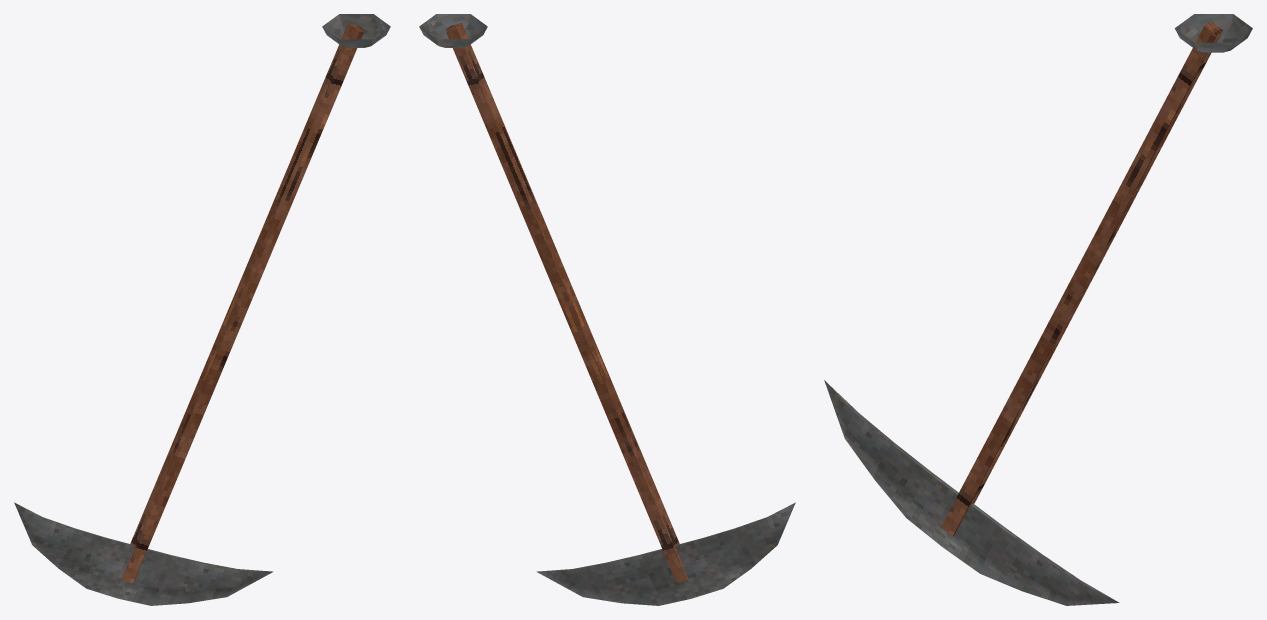
Rendered from swinging_axe.glb.
3 views of the same model, side by side, from view 1: azimuth 30°, elevation 25°; view 2: azimuth 150°, elevation 25°; view 3: azimuth 330°, elevation 25° (orthographic). The views are drawn at different scales.
Visible parts, largest first — view 1: Spinny, Top; view 2: Spinny, Top; view 3: Spinny, Top.
Boxes of the visible parts, left/top/right/bottom form: Spinny: left=14, top=23, right=364, bottom=605; Top: left=322, top=14, right=390, bottom=47; Spinny: left=445, top=23, right=795, bottom=605; Top: left=419, top=14, right=487, bottom=47; Spinny: left=824, top=21, right=1223, bottom=605; Top: left=1175, top=14, right=1252, bottom=52.
Bounding box in the file's own units: 3.65 × 5.13 × 0.5907.
2 materials, 2 textured.
